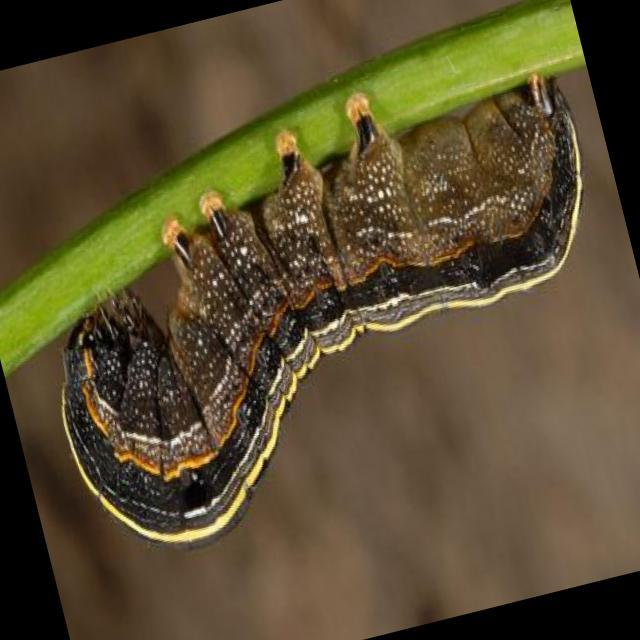Plaga: (1, 43, 640, 596)
